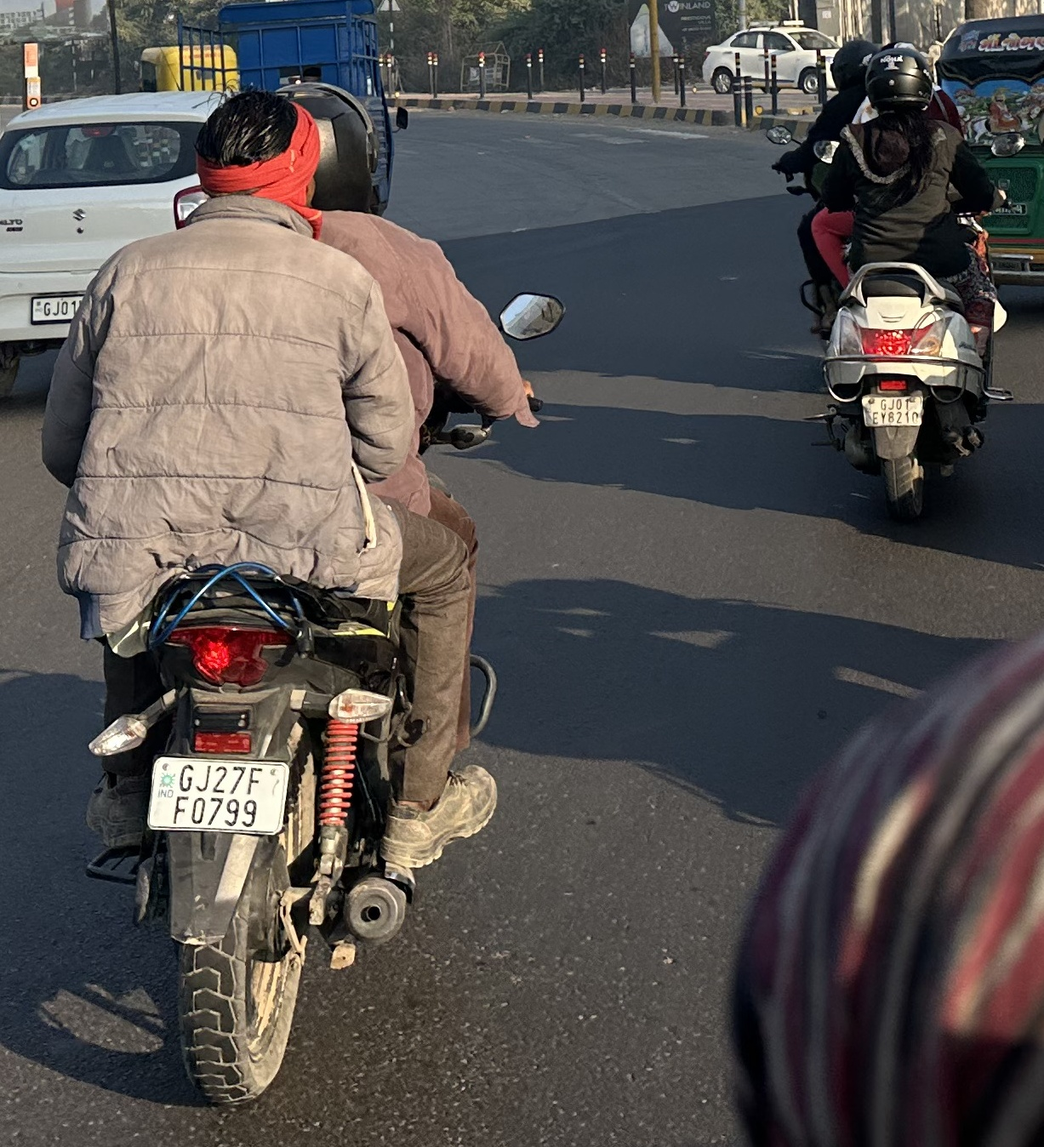BikeWithRider: (28, 52, 583, 1137), (800, 32, 1024, 515)
Helmet: (272, 67, 396, 224), (844, 32, 944, 124)
NoHelmet: (190, 83, 332, 237)
